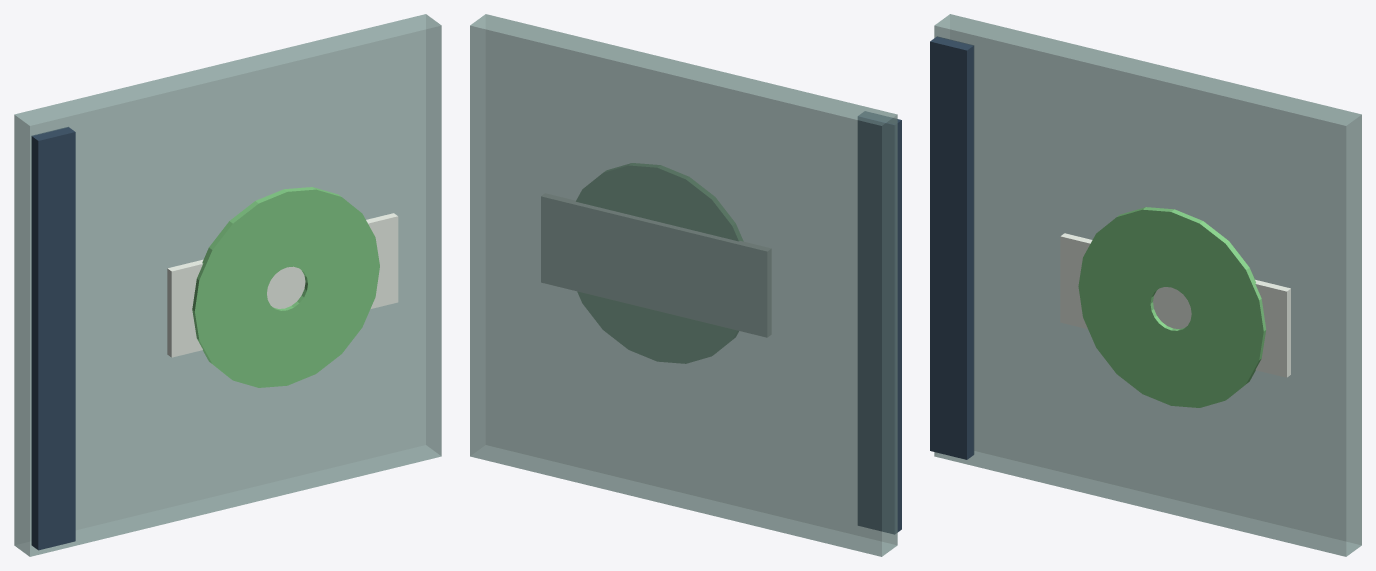
The model's file is cd_case.glb.
The picture shows the model from 3 angles, left to right: view 1: azimuth 30°, elevation 25°; view 2: azimuth 150°, elevation 25°; view 3: azimuth 330°, elevation 25°; orthographic projection.
Parts seen in each view (by area): view 1: cd_case; view 2: cd_case; view 3: cd_case.
Part boxes in pixels (<box>): cd_case: <box>14,14,441,556</box>; cd_case: <box>470,14,901,556</box>; cd_case: <box>930,14,1361,556</box>.
Bounding box in the file's own units: 0.2 × 0.2 × 0.022.
